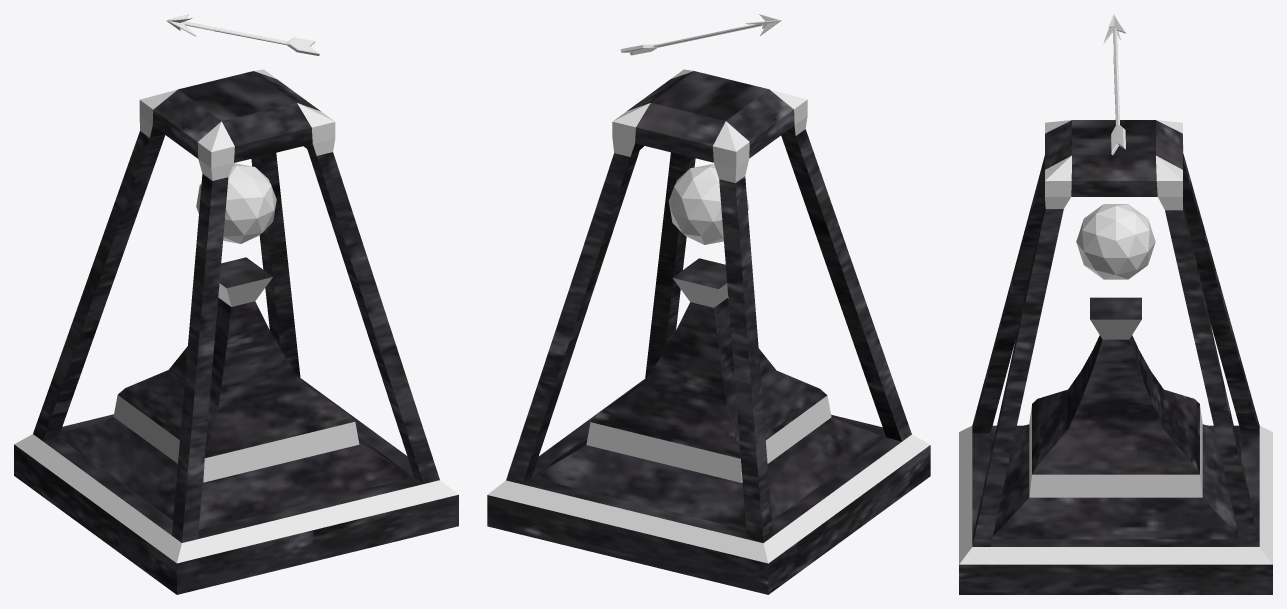
Rendered from ok kulesi.fbx.
3 renders of one model, left to right at view 1: azimuth 30°, elevation 25°; view 2: azimuth 150°, elevation 25°; view 3: azimuth 270°, elevation 25°, orthographic. The views are drawn at different scales.
Visible parts, largest first — view 1: Cube.001, Cube.002, Cube; view 2: Cube.001, Cube.002, Cube; view 3: Cube.001, Cube.002, Cube.
Boxes of the visible parts, left/top/right/bottom form: Cube.001: left=14, top=69, right=458, bottom=594; Cube.002: left=196, top=163, right=276, bottom=243; Cube: left=165, top=14, right=319, bottom=55; Cube.001: left=487, top=69, right=930, bottom=594; Cube.002: left=669, top=164, right=748, bottom=244; Cube: left=620, top=14, right=781, bottom=55; Cube.001: left=959, top=120, right=1272, bottom=594; Cube.002: left=1076, top=204, right=1155, bottom=279; Cube: left=1103, top=14, right=1125, bottom=155.
Size of the model in its own units: 200 by 338 by 200.
